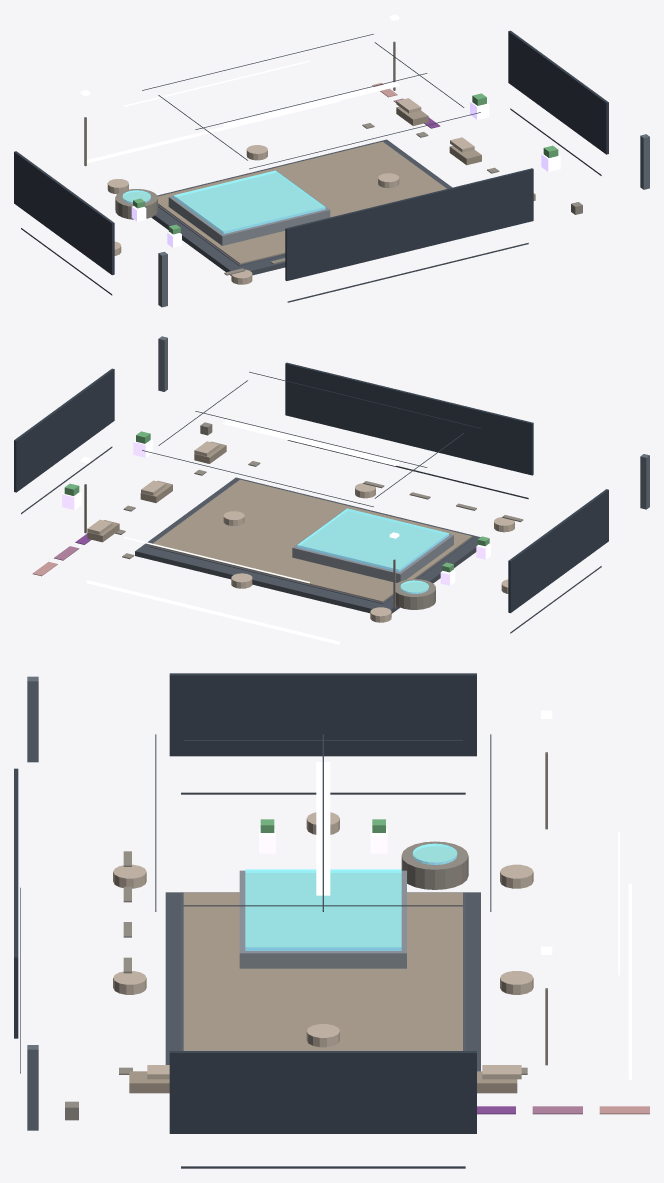
File: floor-skydeck-reservoir.glb
3 renders of one model, top to bottom at view 1: azimuth 30°, elevation 25°; view 2: azimuth 150°, elevation 25°; view 3: azimuth 270°, elevation 25°, orthographic. The views are drawn at different scales.
Parts seen in each view (by area): view 1: WallBack_restoration, Deck, Pool, WallL_restoration, WallR_restoration, PoolWater, Slab_restoration, LightStrip_restoration, FountainBase, Reveal_restoration, Post_restoration_1, Post_restoration_-1 (+1 smaller); view 2: WallBack_restoration, Deck, Pool, WallL_restoration, WallR_restoration, PoolWater, Slab_restoration, FountainBase, LightStrip_restoration, Reveal_restoration, IntFloor_restoration, Post_restoration_-1 (+1 smaller); view 3: Deck, WallL_restoration, WallR_restoration, Pool, PoolWater, Slab_restoration, FountainBase, LightStrip_restoration, WallBack_restoration, Post_restoration_-1, Post_restoration_1, IntFloor_restoration (+10 smaller).
Part boxes in pixels (<box>): WallBack_restoration: <box>285,168,533,280</box>; Deck: <box>158,141,446,264</box>; Pool: <box>168,171,330,245</box>; WallL_restoration: <box>14,151,114,275</box>; WallR_restoration: <box>508,30,608,154</box>; PoolWater: <box>173,170,325,234</box>; Slab_restoration: <box>151,139,452,275</box>; LightStrip_restoration: <box>222,82,399,128</box>; FountainBase: <box>115,189,157,219</box>; Reveal_restoration: <box>87,101,339,162</box>; Post_restoration_1: <box>640,134,649,189</box>; Post_restoration_-1: <box>158,251,167,307</box>; WallBack_restoration: <box>285,362,533,475</box>; Deck: <box>151,479,471,602</box>; Pool: <box>292,509,453,582</box>; WallL_restoration: <box>508,489,608,613</box>; WallR_restoration: <box>14,368,114,492</box>; PoolWater: <box>297,508,448,571</box>; Slab_restoration: <box>135,477,480,613</box>; FountainBase: <box>395,579,435,609</box>; LightStrip_restoration: <box>222,420,399,465</box>; Reveal_restoration: <box>86,580,339,644</box>; IntFloor_restoration: <box>148,480,474,603</box>; Post_restoration_-1: <box>640,454,649,509</box>; Deck: <box>183,892,462,1050</box>; WallL_restoration: <box>169,673,476,756</box>; WallR_restoration: <box>169,1051,476,1133</box>; Pool: <box>239,870,406,968</box>; PoolWater: <box>245,869,401,950</box>; Slab_restoration: <box>165,892,480,1071</box>; FountainBase: <box>401,841,468,889</box>; LightStrip_restoration: <box>316,762,330,895</box>; WallBack_restoration: <box>14,768,18,1038</box>; Post_restoration_-1: <box>27,676,38,762</box>; Post_restoration_1: <box>27,1045,38,1130</box>; IntFloor_restoration: <box>181,893,465,1050</box>.
Size of the model in its own units: 16.08 by 3.42 by 11.39.
